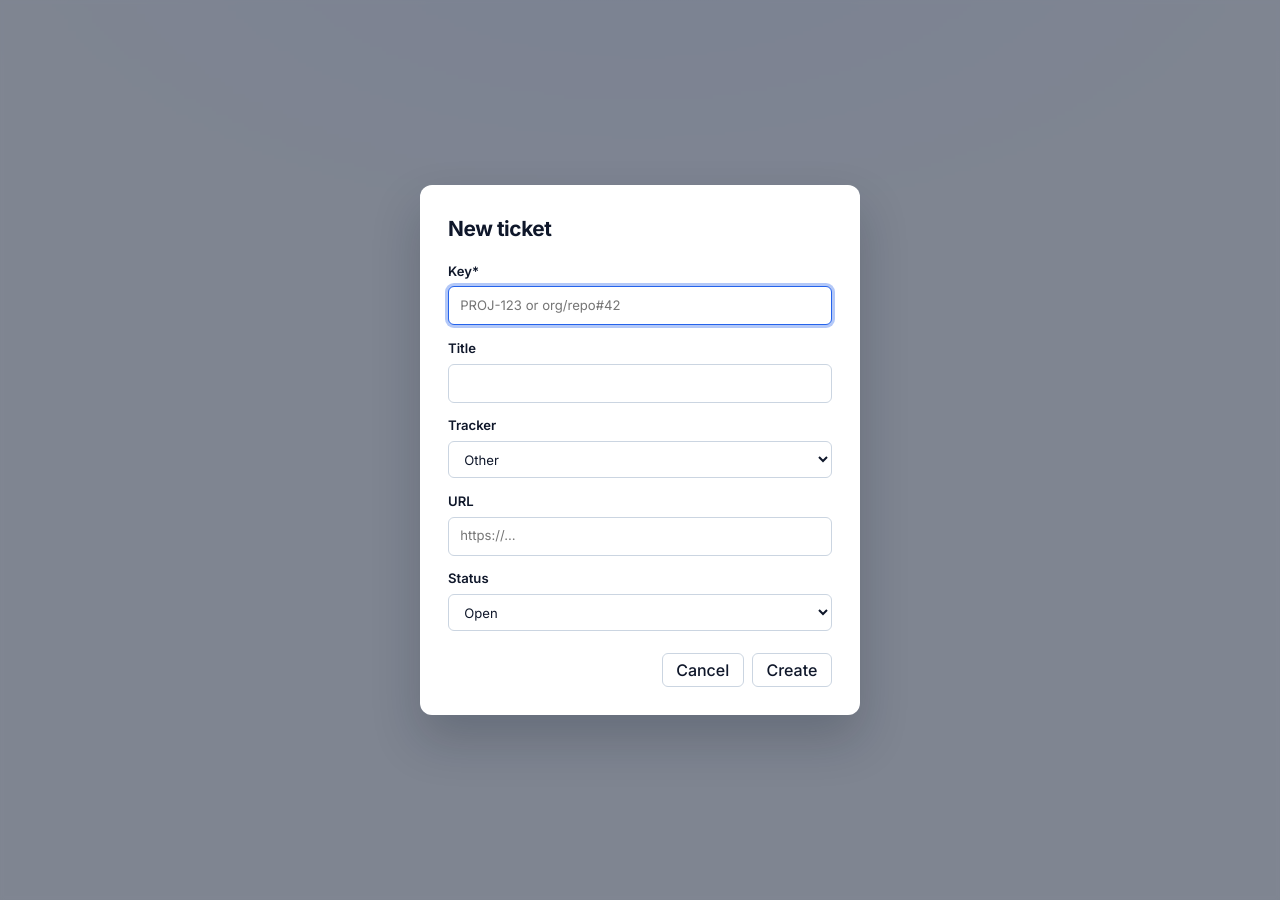
TicketForm › blocks submit and shows an error when the key is empty
This screenshot has width=1280, height=900.
What coordinates should you click on to do the following:
click the button "Create"
I would click on:
 (792, 670)
Its box is [752,653,832,687].
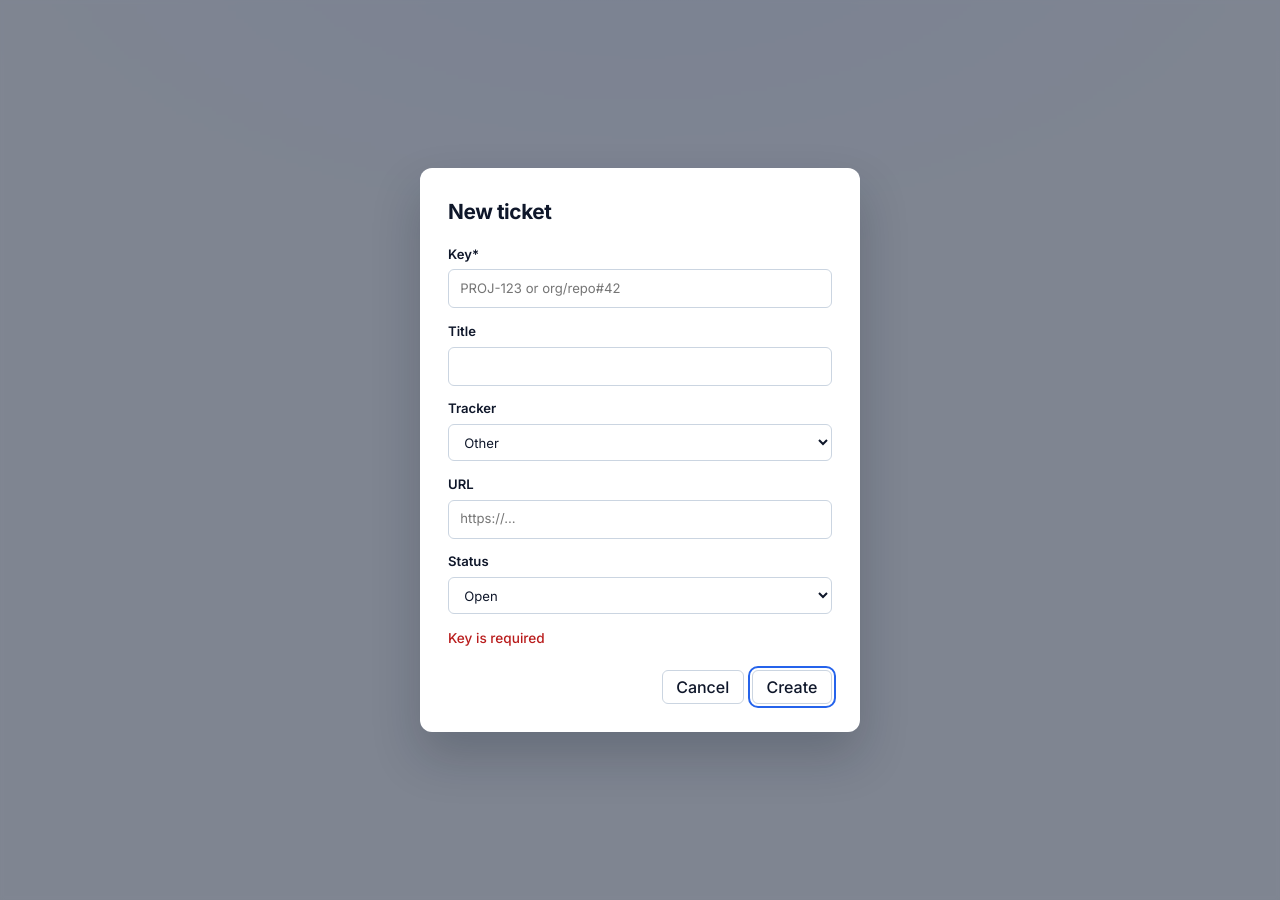
Expected: the message reads "Key is required", [448,630,545,646]
